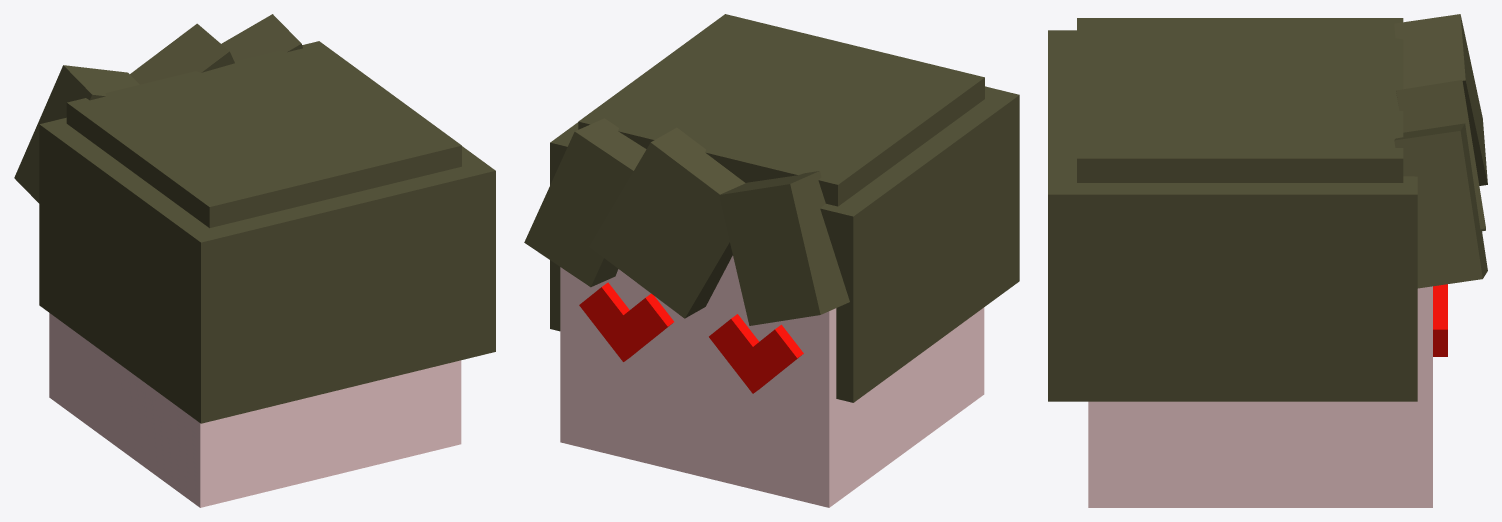
File: Boy.fbx
The picture shows the model from 3 angles, left to right: view 1: azimuth 30°, elevation 25°; view 2: azimuth 150°, elevation 25°; view 3: azimuth 270°, elevation 25°; orthographic projection. The views are drawn at different scales.
Parts seen in each view (by area): view 1: Cube.010; view 2: Cube.010; view 3: Cube.010.
Boxes of the visible parts, x1,y1,x2,y2 form: Cube.010: (14, 14, 495, 507); Cube.010: (524, 14, 1019, 507); Cube.010: (1048, 14, 1487, 507).
Size of the model in its own units: 226 by 238 by 255.
